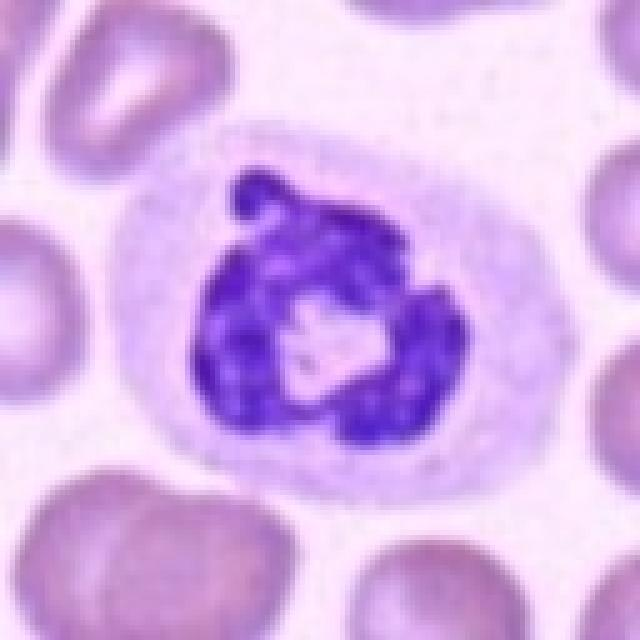neutro: (172, 170, 537, 484)
